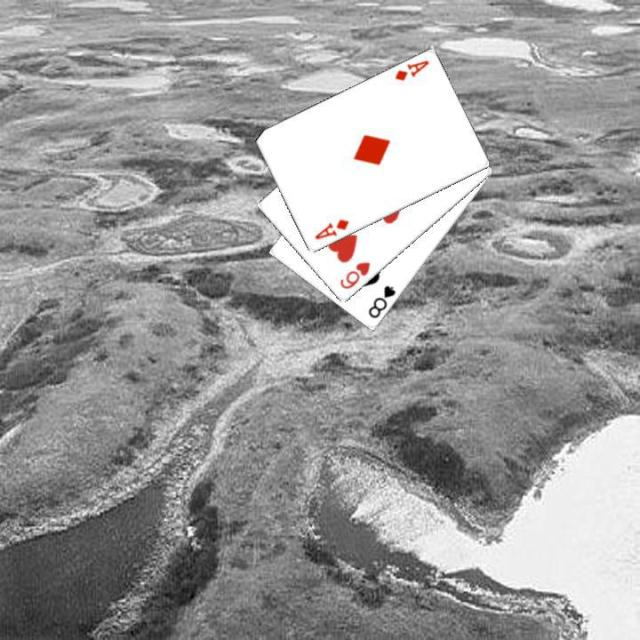6H: (336, 258, 372, 292)
8S: (364, 282, 398, 321)
AD: (310, 216, 350, 242), (391, 57, 430, 83)
